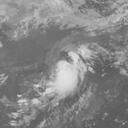cyclone: (43, 43, 101, 101)
